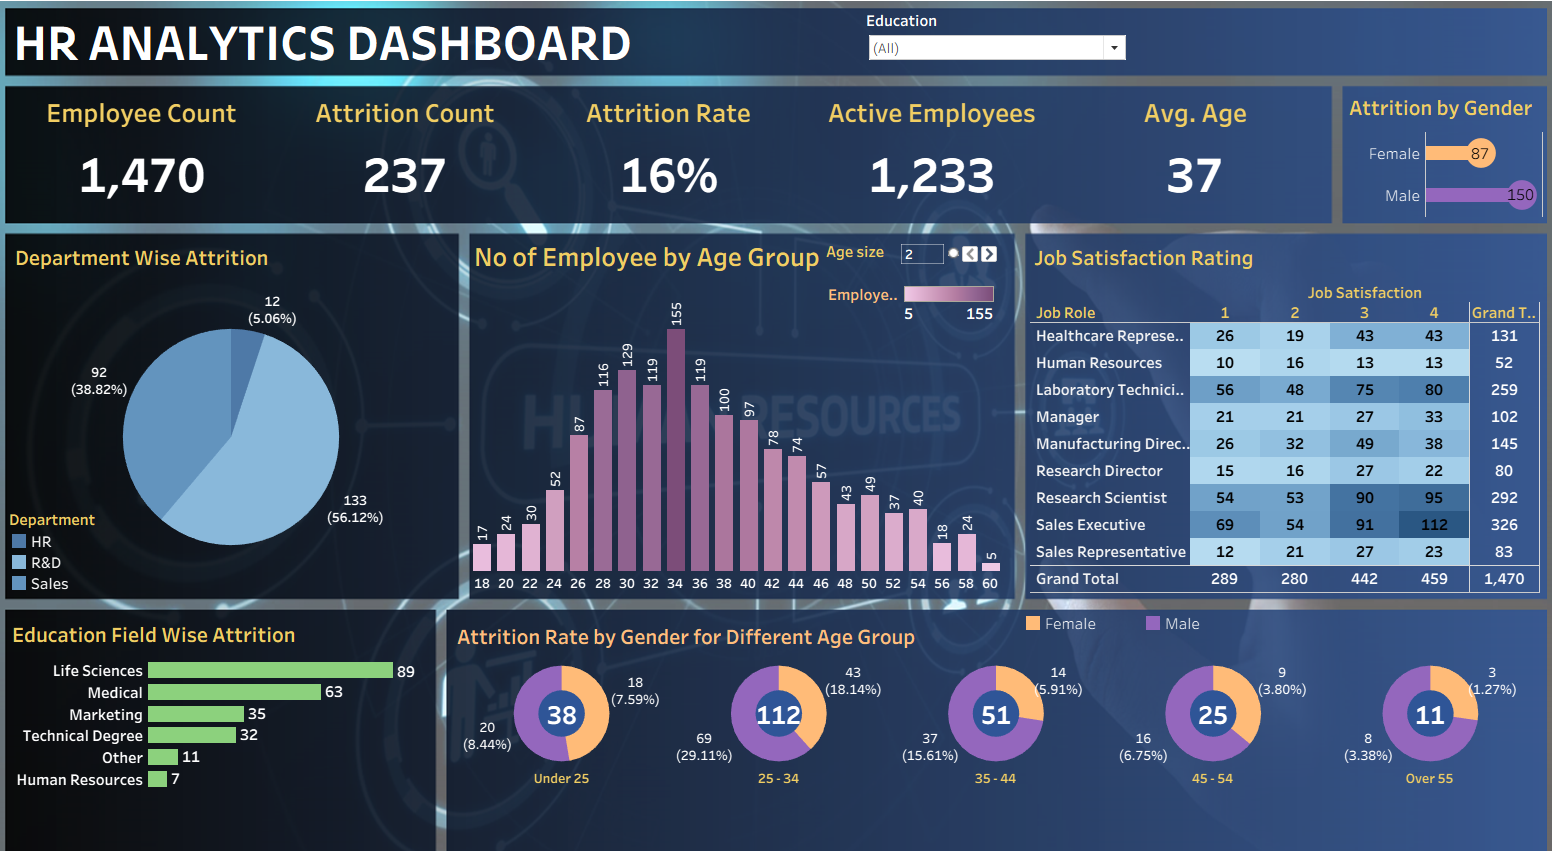

What the dashboard file says about the page in this screenshot:
{"tool":"tableau","page":{"name":"HR Analytics Dashboard","canvas":[1580,900],"ordinal":0},"visuals":[{"type":"image","param":"Image/Slide1.PNG","box":[8,8,1564,884]},{"type":"filter","title":"Department Wise Attrition","param":"[federated.0ggf1l71crkh6q1coqwm804vb58r].[none:Education:nk]","box":[880,21,263,64]},{"type":"text","box":[24,24,856,56]},{"type":"worksheet","title":"KPI","mark":"Automatic","box":[24,100,1317,128]},{"type":"worksheet","title":"Attrition by Gender","mark":"Automatic","rows":["Gender"],"cols":["Calculation_469781784651005952","Calculation_469781784651005952"],"box":[1359,100,198,128]},{"type":"worksheet","title":"No of Employee by Age Group","mark":"Automatic","rows":["Employee Count"],"cols":["Age (bin)"],"box":[484,246,533,358]},{"type":"worksheet","title":"Department Wise Attrition","mark":"Pie","box":[25,250,440,353]},{"type":"worksheet","title":"Job Satisfaction Rating","mark":"Square","rows":["Job Role"],"cols":["Job Satisfaction"],"box":[1044,250,510,354]},{"type":"parameter","param":"[Parameters].[Parameter 1]","box":[840,252,174,42]},{"type":"legend","title":"No of Employee by Age Group","param":"[federated.0ggf1l71crkh6q1coqwm804vb58r].[sum:Employee Count:qk]","box":[842,293,170,42]},{"type":"legend","title":"Department Wise Attrition","param":"[federated.0ggf1l71crkh6q1coqwm804vb58r].[none:Department:nk]","box":[23,520,101,85]},{"type":"legend","title":"Attrition Rate by Gender for Different Age Group","param":"[federated.0ggf1l71crkh6q1coqwm804vb58r].[none:Gender:nk]","box":[1037,624,252,35]},{"type":"worksheet","title":"Education Field Wise Attrition","mark":"Automatic","rows":["Education Field"],"cols":["Calculation_469781784651005952"],"box":[22,627,423,174]},{"type":"worksheet","title":"Attrition Rate by Gender for Different Age Group","mark":"Pie","rows":["Calculation_264868002300575745","Calculation_264868002300575745"],"cols":["CF_age band"],"box":[467,629,1086,170]}]}

Visuals, with their boxes on the page's 1580x900 design canvas (x1, y1, x2, y2). These are canvas units, not pixel positions in the 1552x851 screenshot, which may show the page scaled, cropped or inside an application window:
image: {"left": 8, "top": 8, "right": 1572, "bottom": 892}
"Department Wise Attrition" filter: {"left": 880, "top": 21, "right": 1143, "bottom": 85}
text: {"left": 24, "top": 24, "right": 880, "bottom": 80}
"KPI" worksheet: {"left": 24, "top": 100, "right": 1341, "bottom": 228}
"Attrition by Gender" worksheet: {"left": 1359, "top": 100, "right": 1557, "bottom": 228}
"No of Employee by Age Group" worksheet: {"left": 484, "top": 246, "right": 1017, "bottom": 604}
"Department Wise Attrition" worksheet (Pie marks): {"left": 25, "top": 250, "right": 465, "bottom": 603}
"Job Satisfaction Rating" worksheet (Square marks): {"left": 1044, "top": 250, "right": 1554, "bottom": 604}
parameter: {"left": 840, "top": 252, "right": 1014, "bottom": 294}
"No of Employee by Age Group" legend: {"left": 842, "top": 293, "right": 1012, "bottom": 335}
"Department Wise Attrition" legend: {"left": 23, "top": 520, "right": 124, "bottom": 605}
"Attrition Rate by Gender for Different Age Group" legend: {"left": 1037, "top": 624, "right": 1289, "bottom": 659}
"Education Field Wise Attrition" worksheet: {"left": 22, "top": 627, "right": 445, "bottom": 801}
"Attrition Rate by Gender for Different Age Group" worksheet (Pie marks): {"left": 467, "top": 629, "right": 1553, "bottom": 799}
